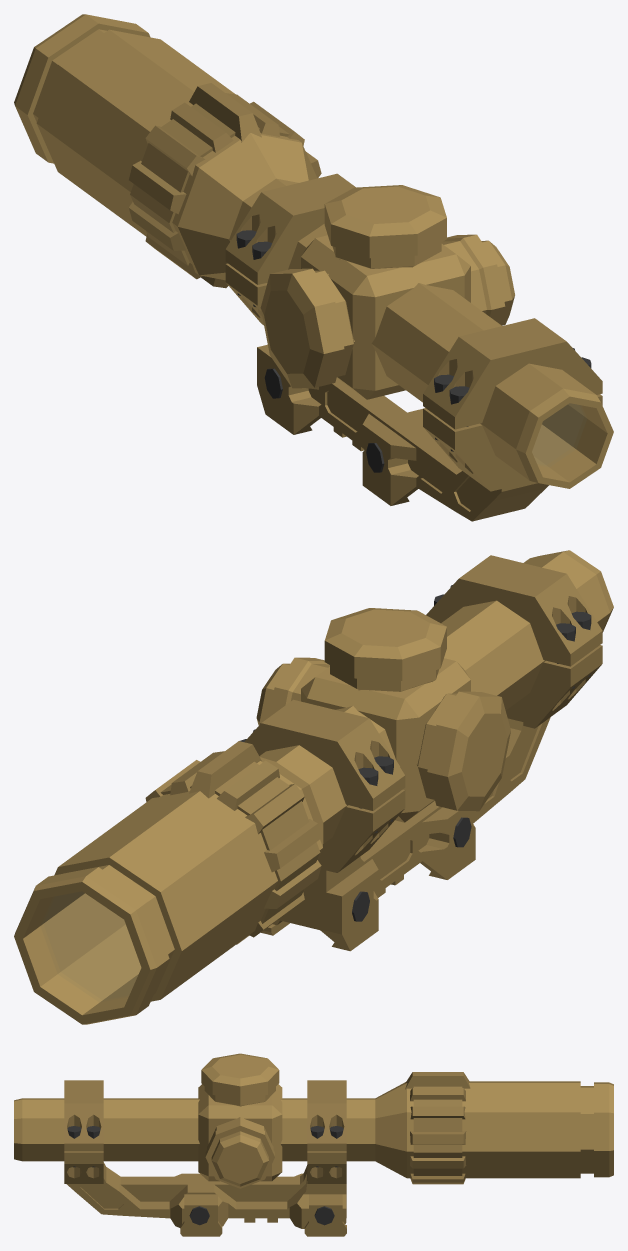
File: sig_sauer_tango6t_1-6x24mm_scope_low-poly.glb
3 renders of one model, top to bottom at view 1: azimuth 30°, elevation 25°; view 2: azimuth 150°, elevation 25°; view 3: azimuth 270°, elevation 25°, orthographic. The views are drawn at different scales.
Parts seen in each view (by area): view 1: Object_2, Object_7, Object_3; view 2: Object_2, Object_7, Object_3; view 3: Object_2, Object_7, Object_3.
Boxes of the visible parts, bbox=[...] form: Object_2: bbox=[14, 14, 613, 488]; Object_7: bbox=[129, 83, 602, 521]; Object_3: bbox=[236, 230, 591, 472]; Object_2: bbox=[14, 550, 613, 1024]; Object_7: bbox=[145, 555, 602, 951]; Object_3: bbox=[240, 585, 591, 921]; Object_2: bbox=[14, 1053, 613, 1188]; Object_7: bbox=[64, 1072, 470, 1236]; Object_3: bbox=[67, 1126, 343, 1225].
Size of the model in its own units: 0.0761 by 0.0889 by 0.3072.
